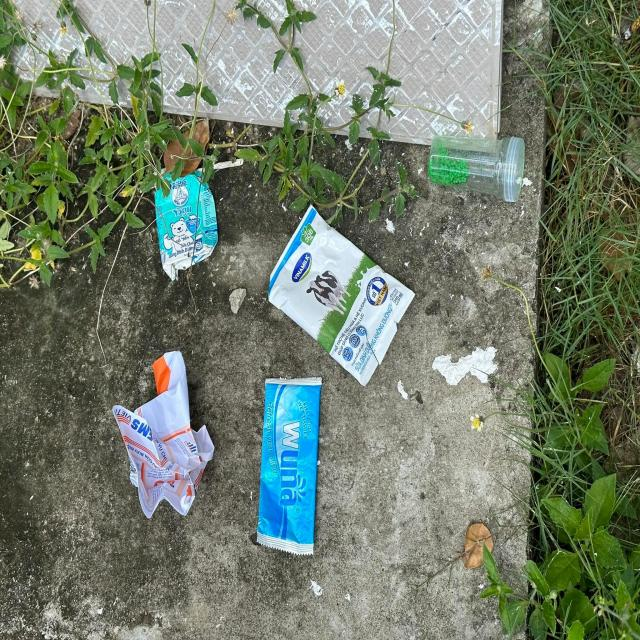milk box: (268, 204, 416, 388), (155, 167, 219, 284)
packet: (258, 376, 322, 556)
paper: (112, 351, 216, 521)
